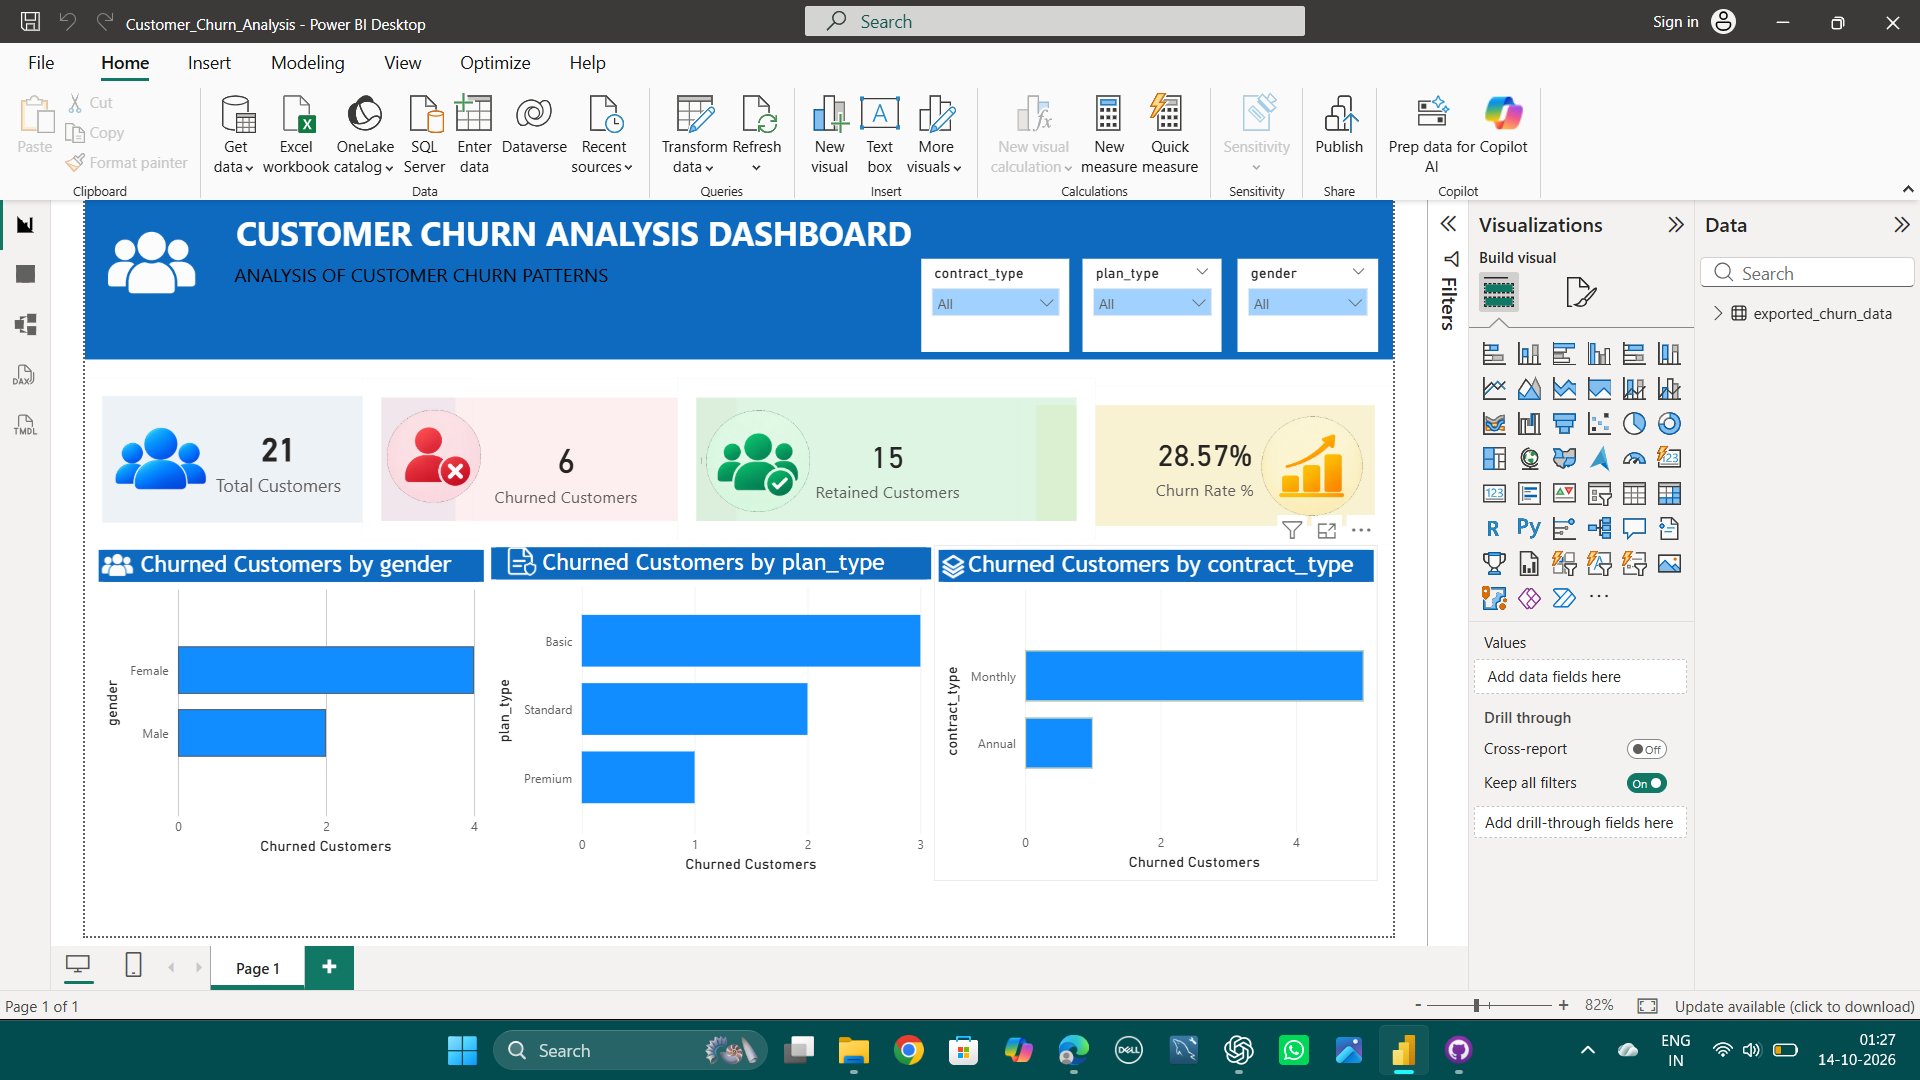

The dashboard page shown, as its layout file describes it:
{"tool":"powerbi","page":{"name":"Page 1","canvas":[1280,720],"ordinal":0},"visuals":[{"type":"card","fields":{"Values":["exported_churn_data.Total Customers"]},"box":[0,174.9,379.1,157.7],"z":0},{"type":"card","fields":{"Values":["exported_churn_data.Churned Customers"]},"box":[271.5,174.9,384,157.7],"z":1000},{"type":"card","fields":{"Values":["exported_churn_data.Churn Rate %"]},"box":[912.2,182.2,368.1,155.3],"z":2000},{"type":"card","fields":{"Values":["exported_churn_data.Retained Customers"]},"box":[580,175,408.8,157.5],"z":3000},{"type":"clusteredBarChart","fields":{"Category":["exported_churn_data.gender"],"Y":["exported_churn_data.Churned Customers"]},"box":[8.6,337.5,386.4,313],"z":4000},{"type":"clusteredBarChart","fields":{"Category":["exported_churn_data.contract_type"],"Y":["exported_churn_data.Churned Customers"]},"box":[830,337.5,435,328.8],"z":5000},{"type":"clusteredBarChart","fields":{"Category":["exported_churn_data.plan_type"],"Y":["exported_churn_data.Churned Customers"]},"box":[395,337.5,435,328.8],"z":6000},{"type":"textbox","box":[0,0,1280,156.2],"z":7000},{"type":"image","box":[18.3,190.8,111.3,117.4],"z":8000},{"type":"image","box":[288.8,201.2,106.2,97.5],"z":9000},{"type":"image","box":[597.5,201.2,116.2,107.5],"z":10000},{"type":"image","box":[1136.2,207.5,128.8,105],"z":11000},{"type":"image","box":[0,0,130,122.5],"z":12000},{"type":"image","box":[8.8,332.5,46.2,48.8],"z":13000},{"type":"image","box":[407.5,337.5,40,31.2],"z":14000},{"type":"image","box":[830,337.5,38.8,40],"z":15000},{"type":"slicer","fields":{"Values":["exported_churn_data.plan_type"]},"box":[976.2,57.5,136.2,91.2],"z":16000},{"type":"slicer","fields":{"Values":["exported_churn_data.gender"]},"box":[1127.5,57.5,137.5,91.2],"z":17000},{"type":"slicer","fields":{"Values":["exported_churn_data.contract_type"]},"box":[817.5,57.5,145,91.2],"z":18000}]}

Visuals, with their boxes on the page's 1280x720 design canvas (x1, y1, x2, y2). These are canvas units, not pixel positions in the 1920x1080 screenshot, which may show the page scaled, cropped or inside an application window:
card - exported_churn_data.Total Customers: crop(0, 175, 379, 333)
card - exported_churn_data.Churned Customers: crop(272, 175, 656, 333)
card - exported_churn_data.Churn Rate %: crop(912, 182, 1280, 338)
card - exported_churn_data.Retained Customers: crop(580, 175, 989, 332)
clusteredBarChart - exported_churn_data.gender x exported_churn_data.Churned Customers: crop(9, 338, 395, 650)
clusteredBarChart - exported_churn_data.contract_type x exported_churn_data.Churned Customers: crop(830, 338, 1265, 666)
clusteredBarChart - exported_churn_data.plan_type x exported_churn_data.Churned Customers: crop(395, 338, 830, 666)
textbox: crop(0, 0, 1280, 156)
image: crop(18, 191, 130, 308)
image: crop(289, 201, 395, 299)
image: crop(598, 201, 714, 309)
image: crop(1136, 208, 1265, 312)
image: crop(0, 0, 130, 122)
image: crop(9, 332, 55, 381)
image: crop(408, 338, 448, 369)
image: crop(830, 338, 869, 378)
slicer - exported_churn_data.plan_type: crop(976, 58, 1112, 149)
slicer - exported_churn_data.gender: crop(1128, 58, 1265, 149)
slicer - exported_churn_data.contract_type: crop(818, 58, 962, 149)
